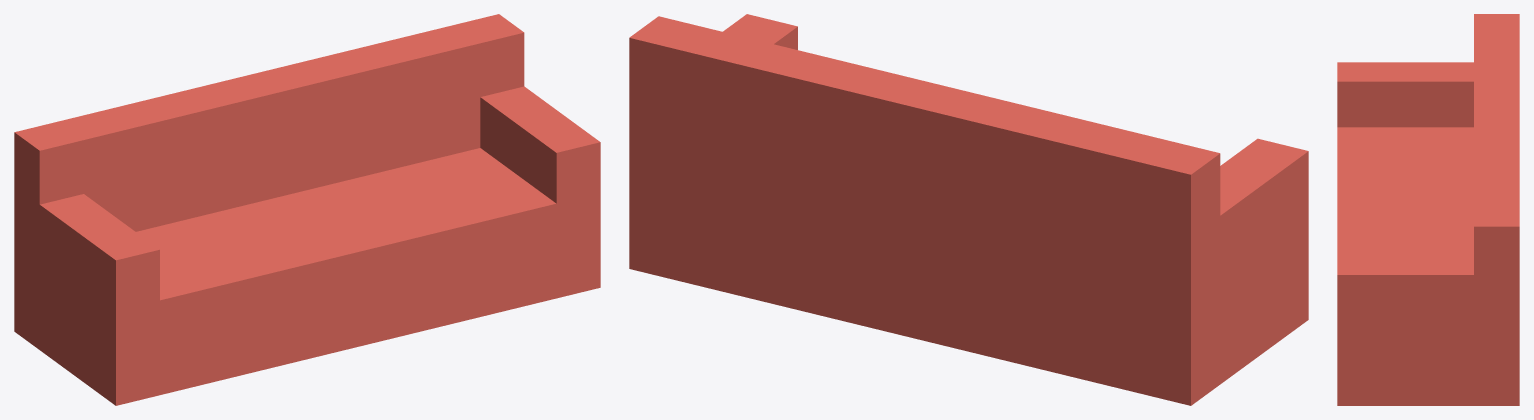
The model's file is Couch.fbx.
3 views of the same model, side by side, from view 1: azimuth 30°, elevation 25°; view 2: azimuth 150°, elevation 25°; view 3: azimuth 270°, elevation 25° (orthographic). The views are drawn at different scales.
Parts seen in each view (by area): view 1: Cube.015_Cube.002; view 2: Cube.015_Cube.002; view 3: Cube.015_Cube.002.
Boxes of the visible parts, box(x1,y1,x2,y2) form: Cube.015_Cube.002: box(14, 14, 600, 405); Cube.015_Cube.002: box(629, 14, 1308, 405); Cube.015_Cube.002: box(1337, 14, 1519, 405).
Size of the model in its own units: 427 by 168 by 155.
